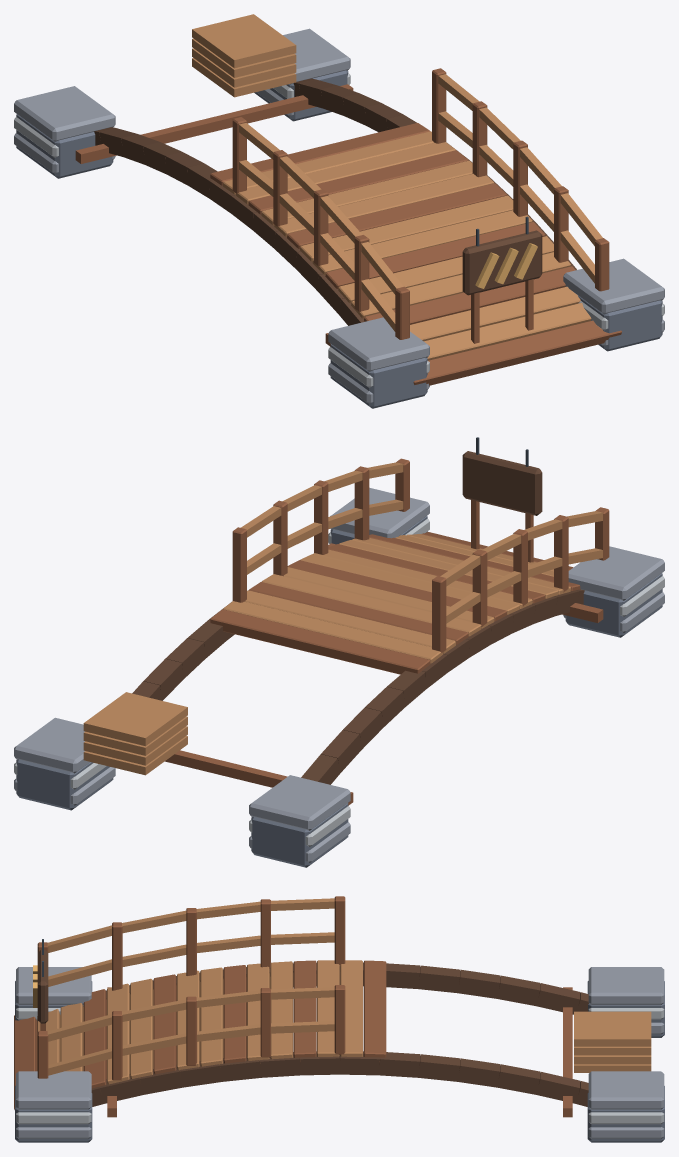
The model's file is bridge_scaffold.glb.
The picture shows the model from 3 angles, top to bottom: view 1: azimuth 30°, elevation 25°; view 2: azimuth 150°, elevation 25°; view 3: azimuth 270°, elevation 25°; orthographic projection. The views are drawn at different scales.
Parts seen in each view (by area): view 1: bridge_scaffold_建筑共用调色板.018; view 2: bridge_scaffold_建筑共用调色板.018; view 3: bridge_scaffold_建筑共用调色板.018.
Boxes of the visible parts, <box> form: bridge_scaffold_建筑共用调色板.018: <box>14,14,664,408</box>; bridge_scaffold_建筑共用调色板.018: <box>14,437,664,867</box>; bridge_scaffold_建筑共用调色板.018: <box>14,896,664,1142</box>.
Size of the model in its own units: 3.86 by 1.85 by 8.
Materials: 1 (1 with a texture image).
